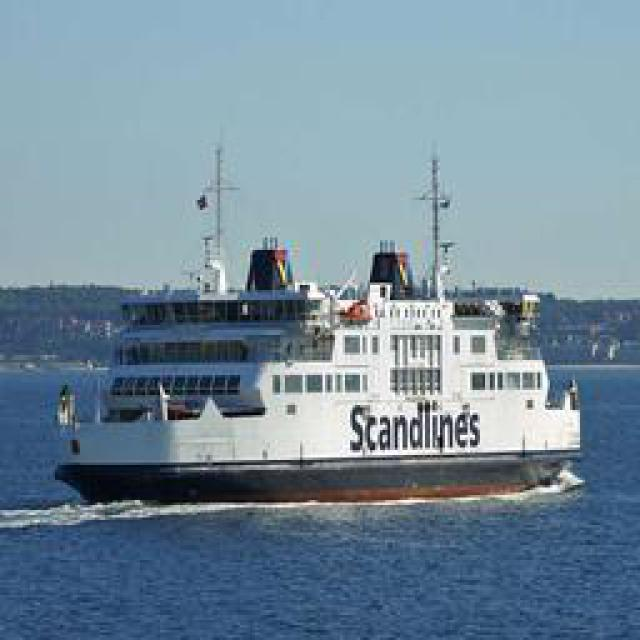Ship: (40, 116, 618, 499)
